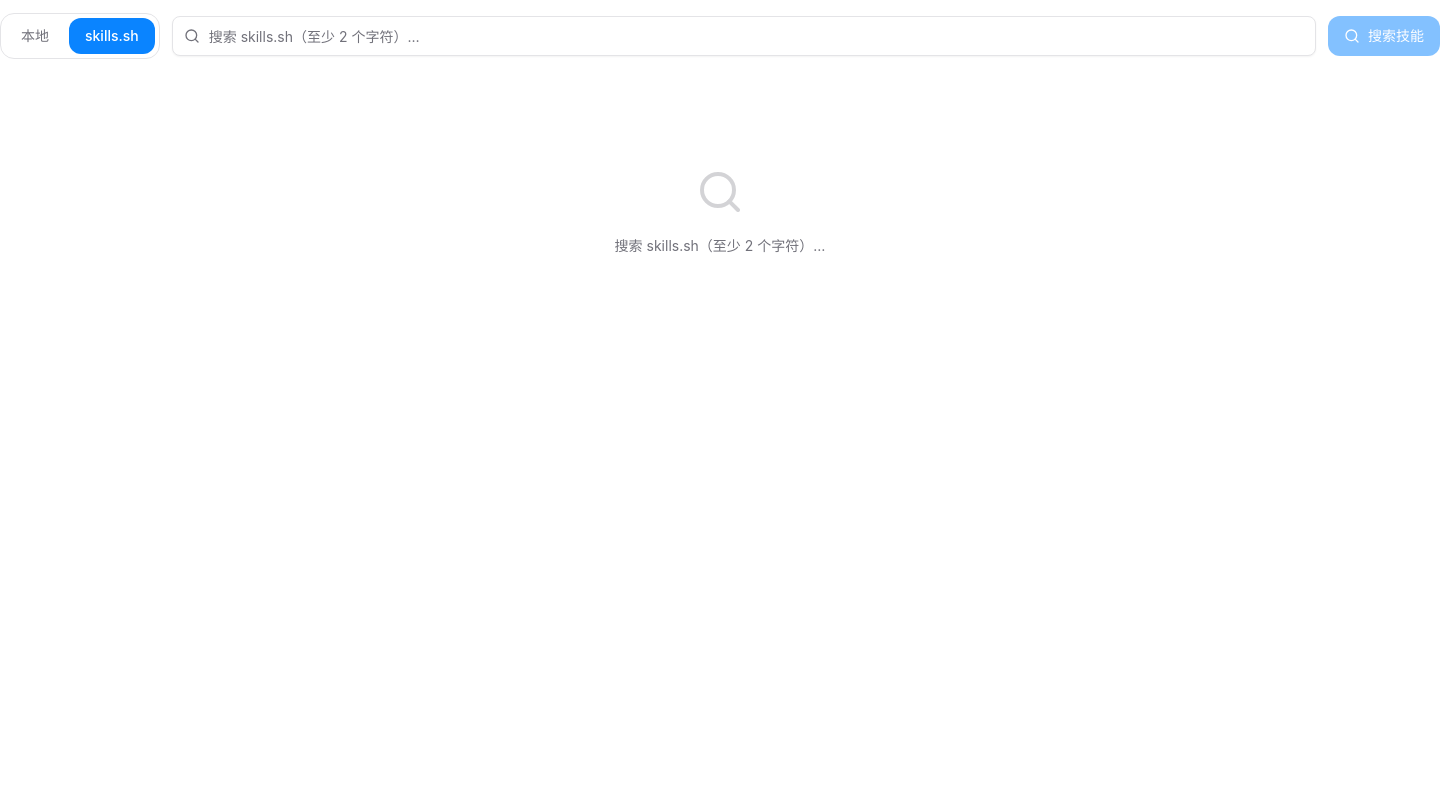
Test: chooses one source per ambiguous variant scope while retaining unique Agent variants
Type "demo" into the field labelled "搜索 skills.sh" at (744, 36), box [172,16,1316,56]
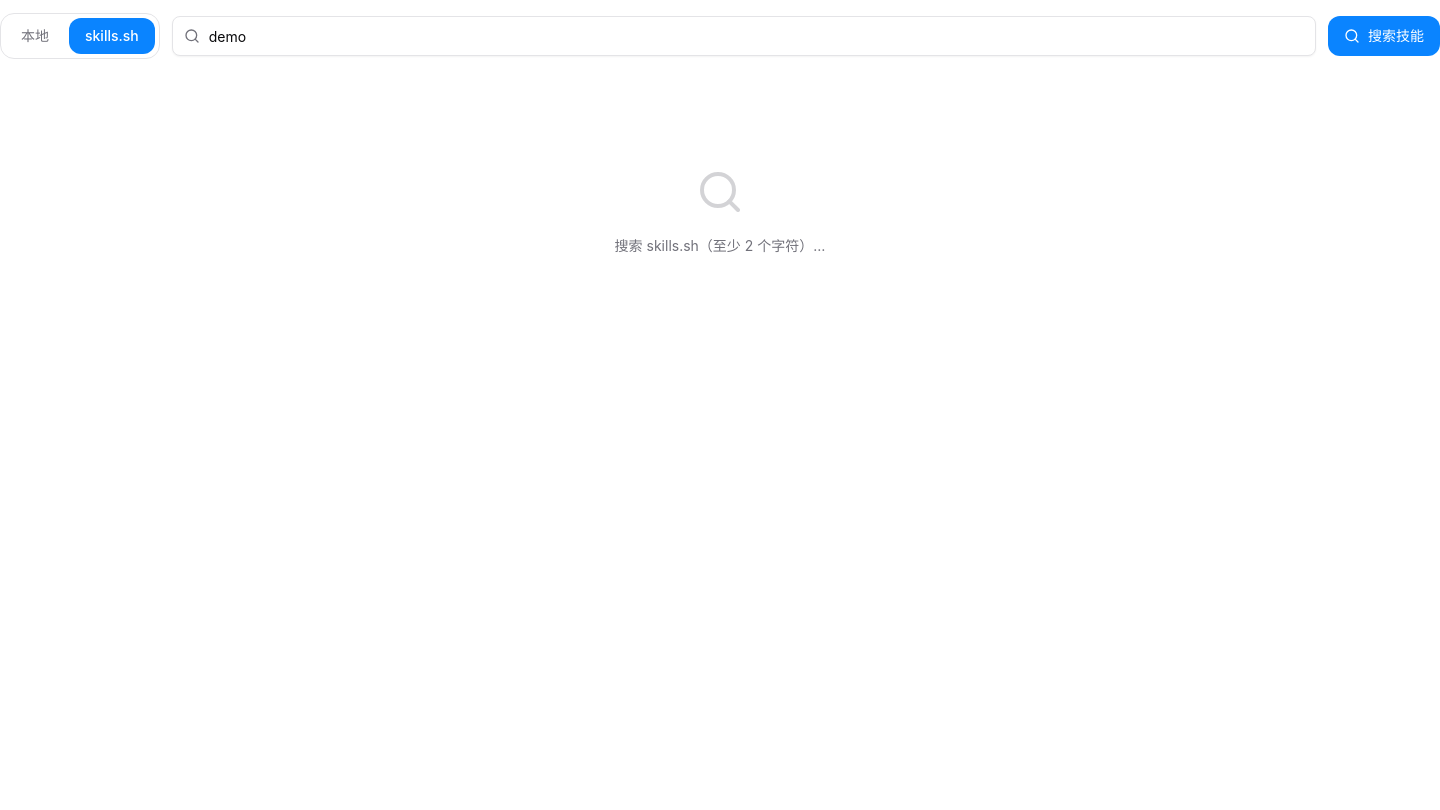
Click the button "搜索技能" at (1384, 36), box [1328,16,1439,56]
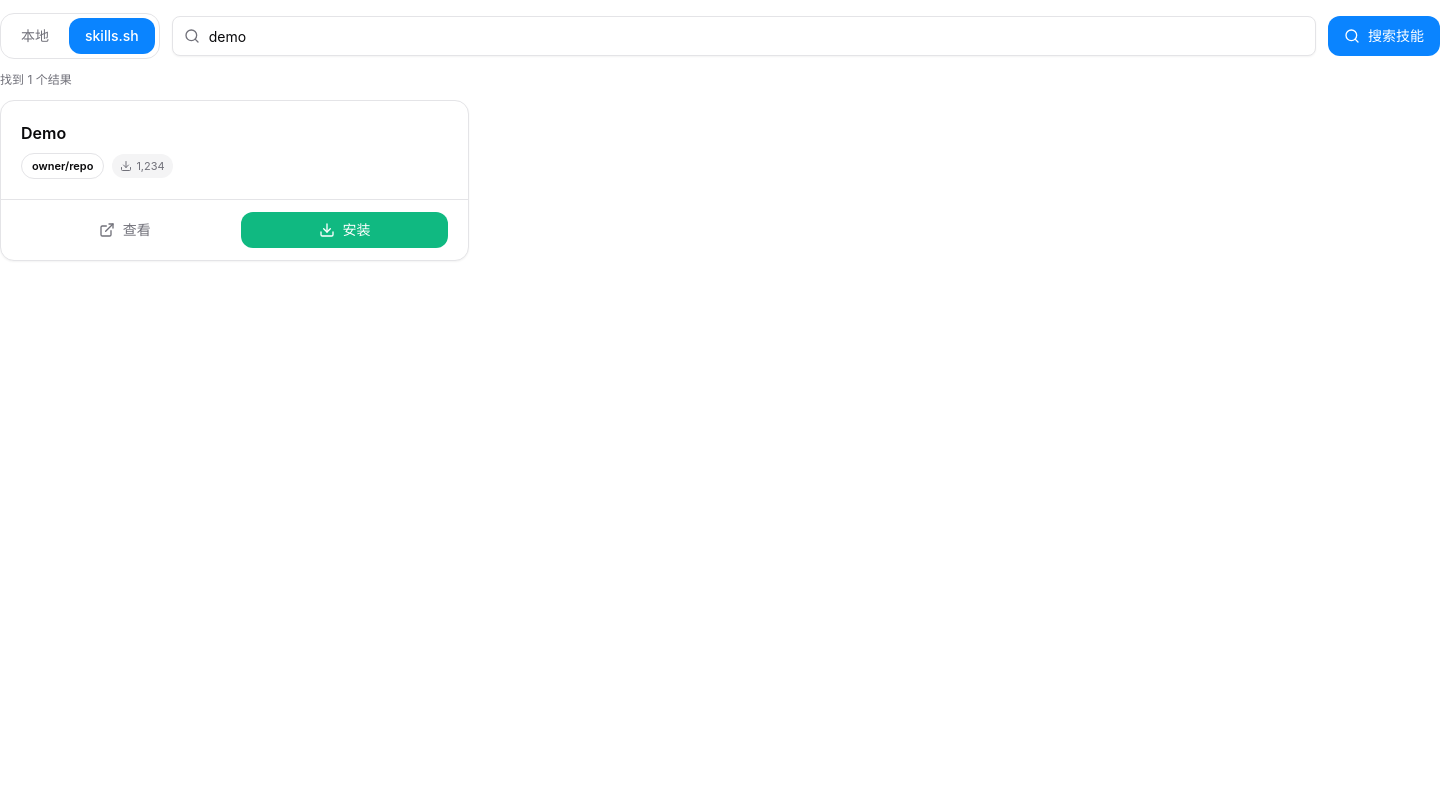
Click the button "安装" at (345, 230), box [241,212,448,248]
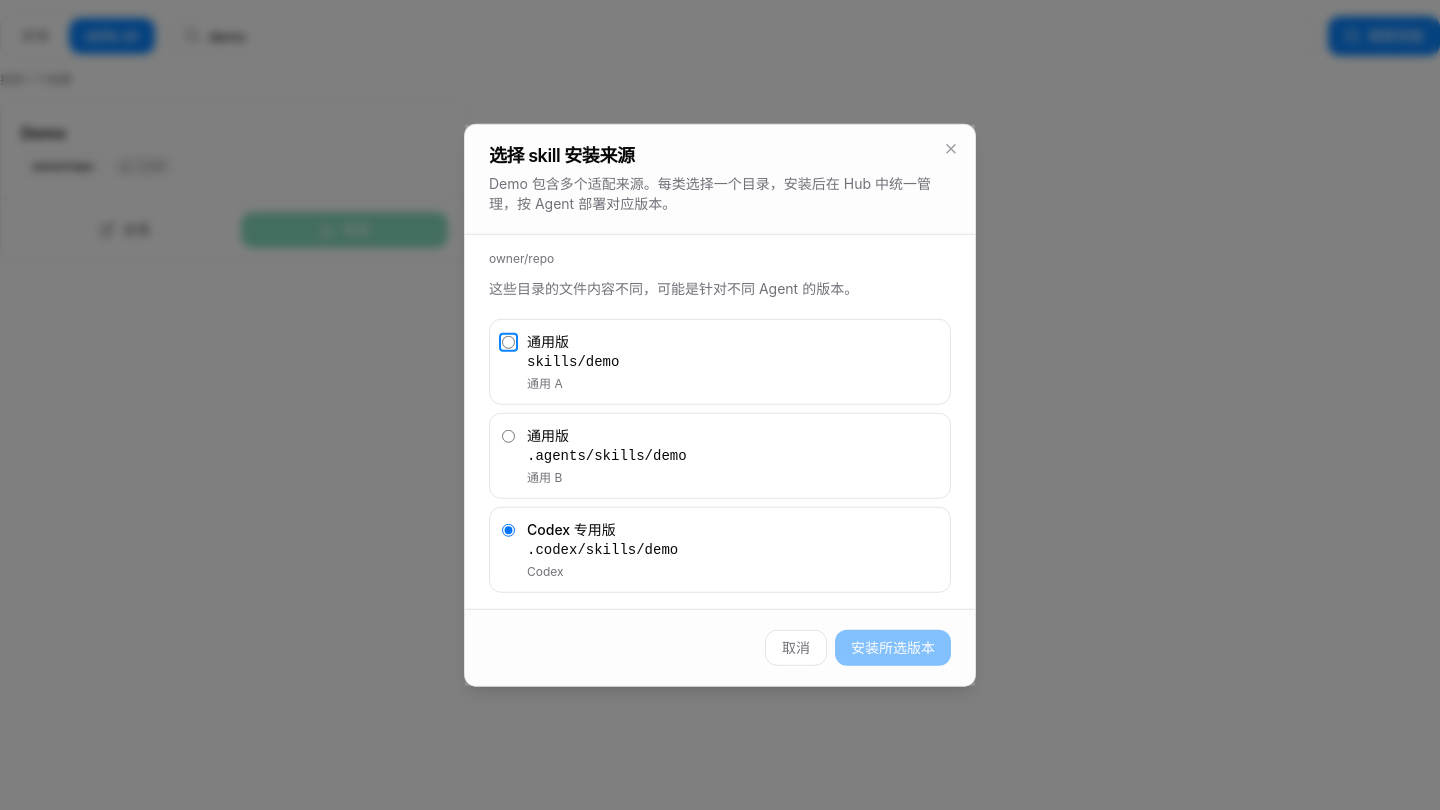
expect the radio button labelled "Codex 专用版 .codex/skills/demo Codex" is checked: met, box [502,523,515,536]
expect the button "安装所选版本" is disabled: met, box [835,629,951,665]
Click the radio button labelled "通用版 skills/demo 通用 A" at (508, 342), box [502,335,515,348]
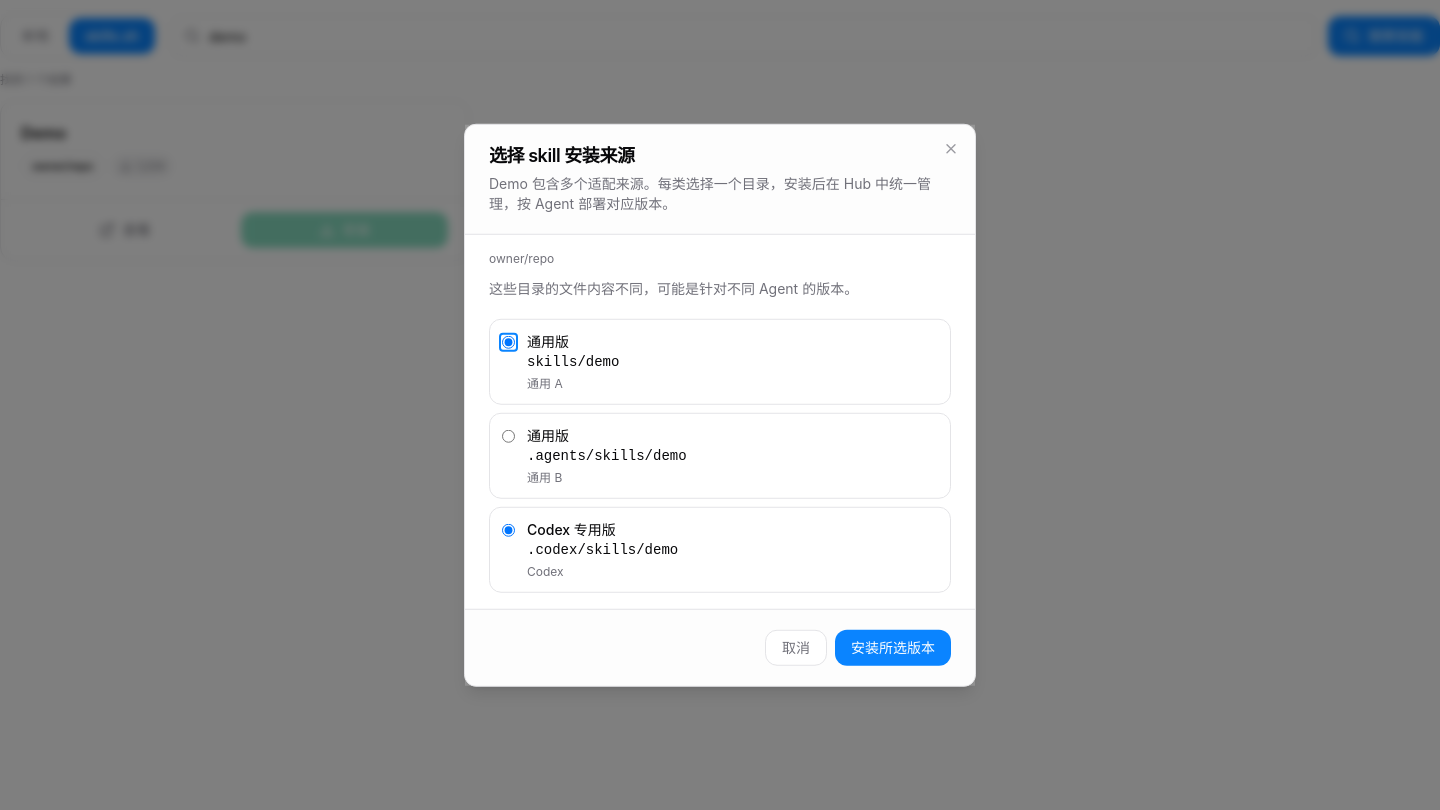
Click the button "安装所选版本" at (893, 647), box [835,629,951,665]
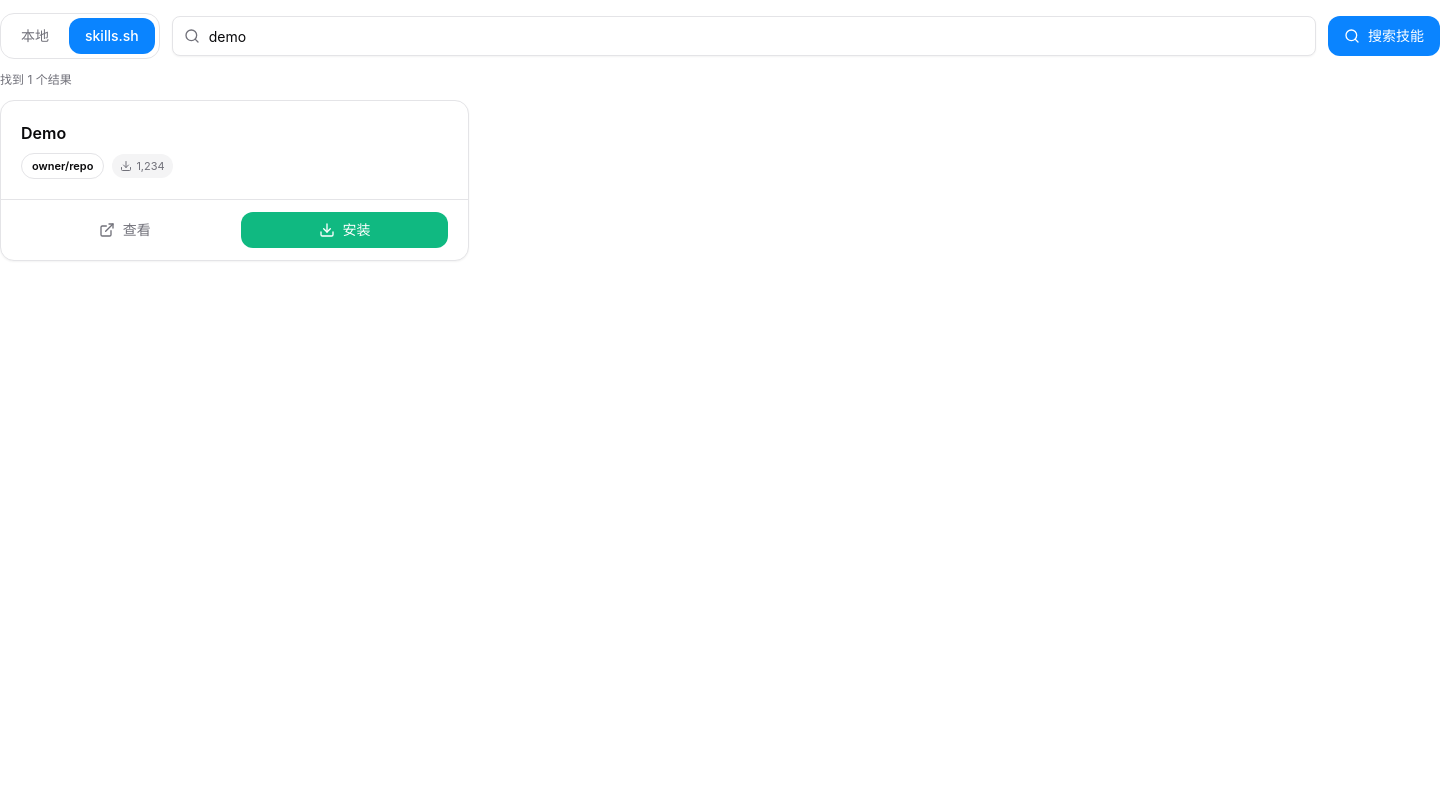
expect the dialog is gone: met
